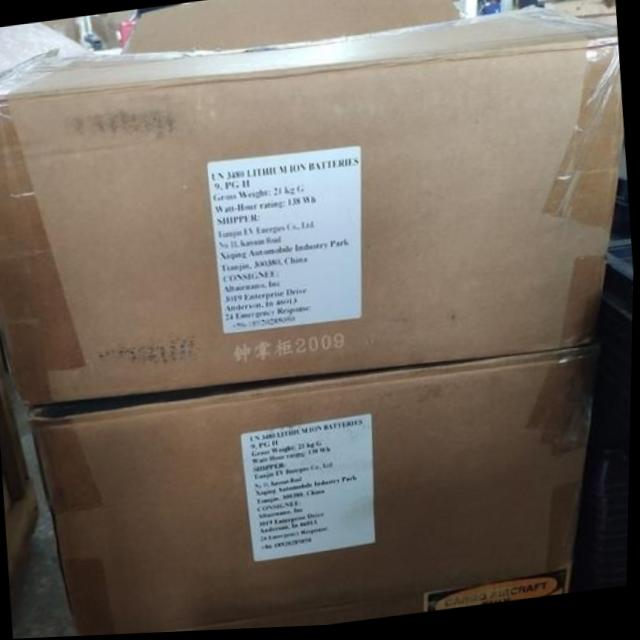box: (0, 0, 624, 410), (28, 351, 598, 637)
